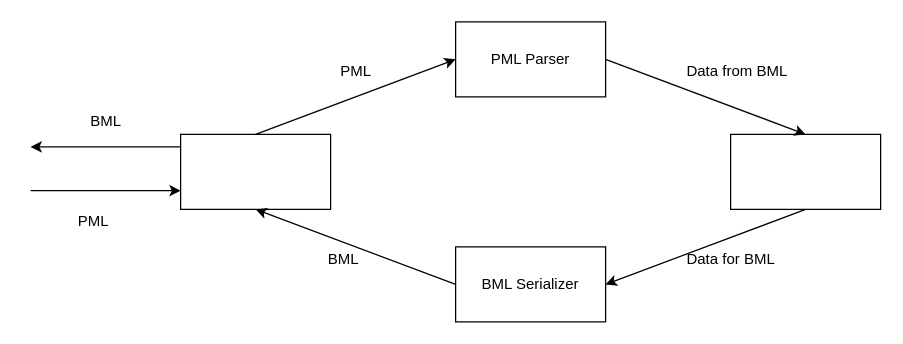
The diagram is 903 pixels wide and 344 high, and some of its shapes have lost their labels. The box of each missing label's shape, as (x1, y1, x2, y2) in pixels:
Decider: (729, 133, 881, 209)
UDPClient: (179, 133, 331, 209)
